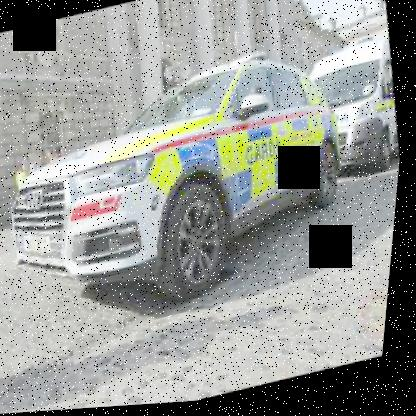emergency: (0, 35, 372, 328)
